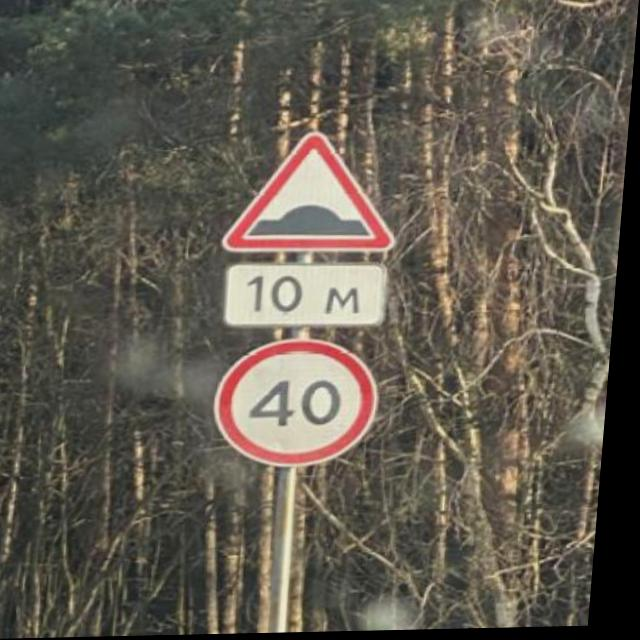limit40: (212, 333, 395, 476)
